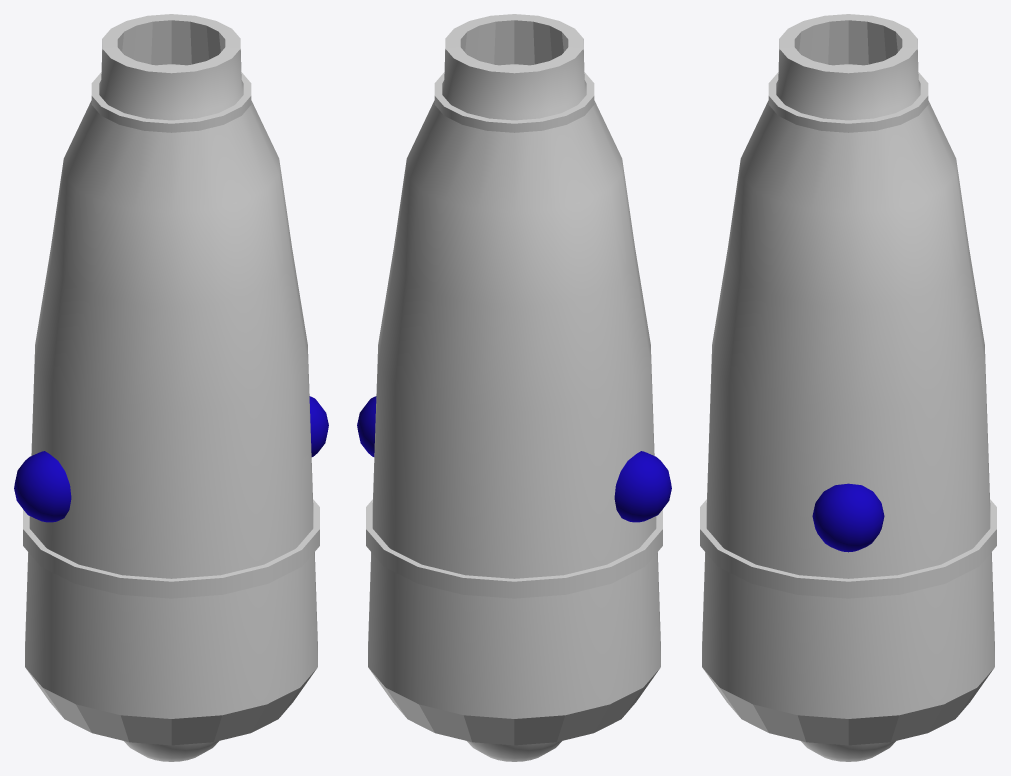
File: Cannon.FBX
3 views of the same model, side by side, from view 1: azimuth 30°, elevation 25°; view 2: azimuth 150°, elevation 25°; view 3: azimuth 270°, elevation 25° (orthographic).
Visible parts, largest first — view 1: Cylinder001, Cylinder003, Sphere002, Sphere003; view 2: Cylinder001, Cylinder003, Sphere002, Sphere003; view 3: Cylinder001, Cylinder003, Sphere003.
Boxes of the visible parts, bbox=[...] form: Cylinder001: bbox=[25, 14, 317, 745]; Cylinder003: bbox=[23, 64, 319, 761]; Sphere002: bbox=[14, 451, 71, 522]; Sphere003: bbox=[309, 396, 328, 456]; Cylinder001: bbox=[368, 14, 660, 745]; Cylinder003: bbox=[366, 64, 662, 761]; Sphere002: bbox=[614, 451, 671, 522]; Sphere003: bbox=[357, 396, 376, 456]; Cylinder001: bbox=[702, 14, 994, 745]; Cylinder003: bbox=[700, 64, 996, 761]; Sphere003: bbox=[812, 483, 884, 552].
Size of the model in its own units: 2472 by 5505 by 2078.
